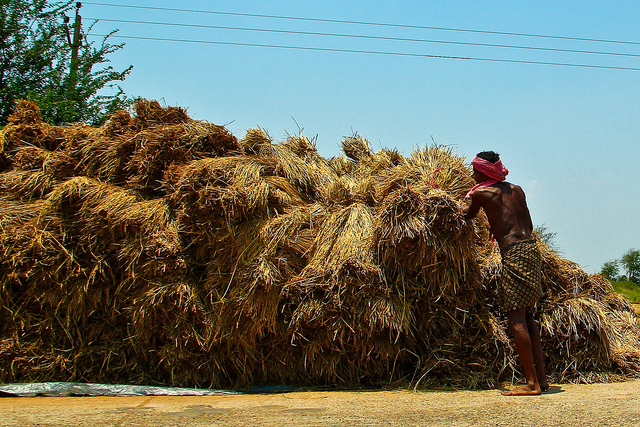human: (426, 144, 586, 425)
